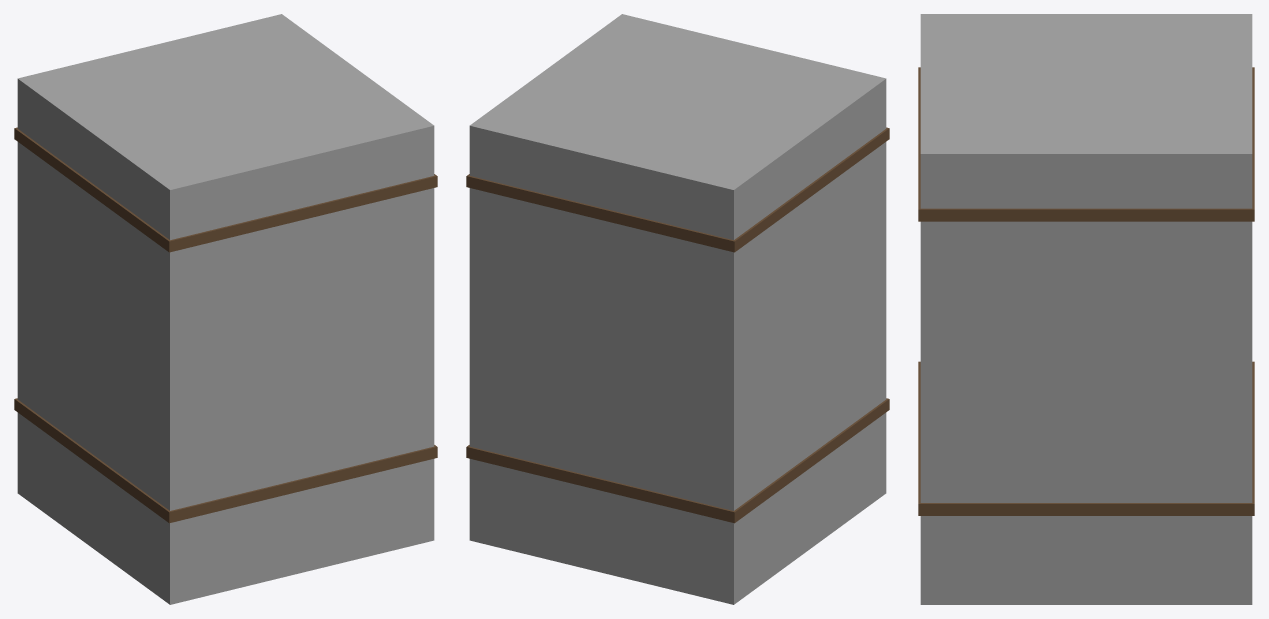
Rendered from LargePackage.fbx.
3 views of the same model, side by side, from view 1: azimuth 30°, elevation 25°; view 2: azimuth 150°, elevation 25°; view 3: azimuth 270°, elevation 25° (orthographic). The views are drawn at different scales.
Parts seen in each view (by area): view 1: pCube1; view 2: pCube1; view 3: pCube1.
Part boxes in pixels (<box>): pCube1: <box>14,14,437,604</box>; pCube1: <box>466,14,889,604</box>; pCube1: <box>918,14,1254,604</box>.
Size of the model in its own units: 1.01 by 1.5 by 1.01.
